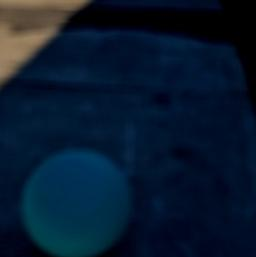algae: (18, 145, 134, 257)
